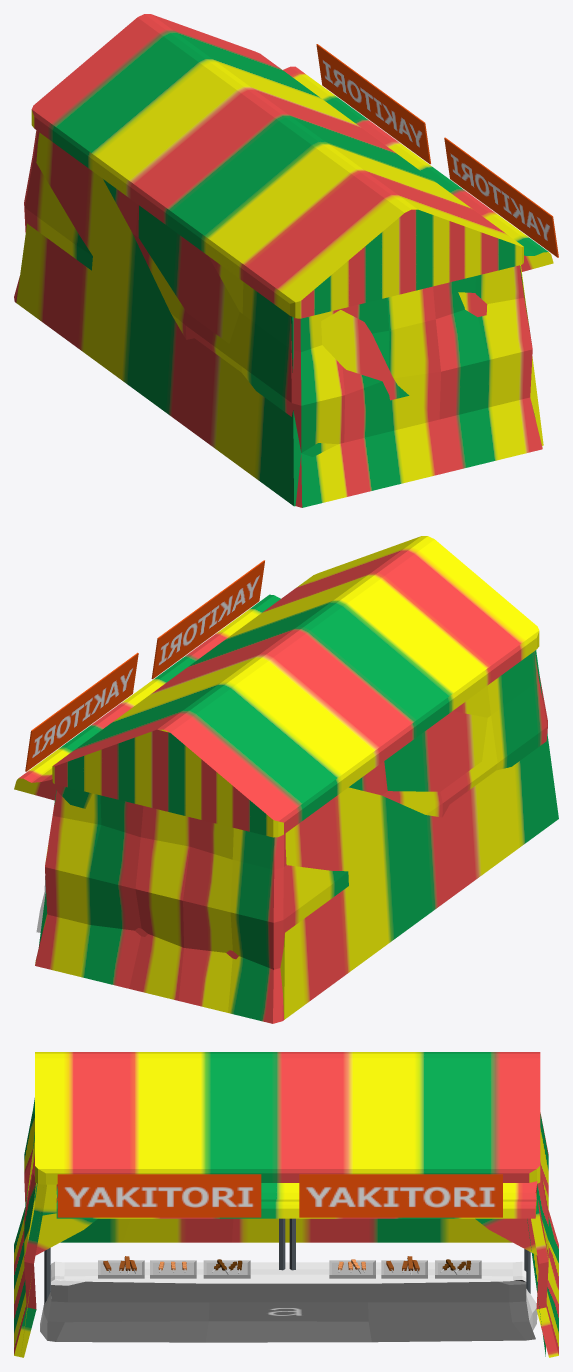
The model's file is rowtentyakitori.fbx.
3 renders of one model, top to bottom at view 1: azimuth 30°, elevation 25°; view 2: azimuth 150°, elevation 25°; view 3: azimuth 270°, elevation 25°, orthographic. The views are drawn at different scales.
Parts seen in each view (by area): view 1: 立方体, 立方体.001, 立方体.003, 平面, 平面.001, Cube.001; view 2: 立方体, 立方体.001, 立方体.003, Cube.001, 平面.001, 平面; view 3: 立方体, 立方体.002, 立方体.001, 平面, 平面.001, Cube.001, 立方体.005, 立方体.007, 立方体.008, 立方体.010, 円柱, 立方体.004 (+2 smaller).
Boxes of the visible parts, x1,y1,x2,y2 form: 立方体: (31,14,523,318); 立方体.001: (14,130,542,507); 立方体.003: (16,132,543,506); 平面: (444,137,558,257); 平面.001: (316,44,430,164); Cube.001: (283,66,553,271); 立方体: (52,536,539,837); 立方体.001: (35,651,547,1023); 立方体.003: (38,650,558,1019); Cube.001: (14,594,280,808); 平面.001: (25,652,138,771); 平面: (151,560,264,679); 立方体: (35,1052,540,1184); 立方体.002: (40,1261,537,1342); 立方体.001: (14,1098,558,1357); 平面: (57,1174,261,1217); 平面.001: (299,1174,502,1217); Cube.001: (56,1181,537,1218); 立方体.005: (150,1260,196,1278); 立方体.007: (203,1260,250,1278); 立方体.008: (329,1260,375,1278); 立方体.010: (435,1260,481,1278); 円柱: (44,1218,285,1303); 立方体.004: (98,1260,144,1278).
Size of the model in its own units: 246 by 215 by 431.
Materials: 5 (5 with a texture image).
